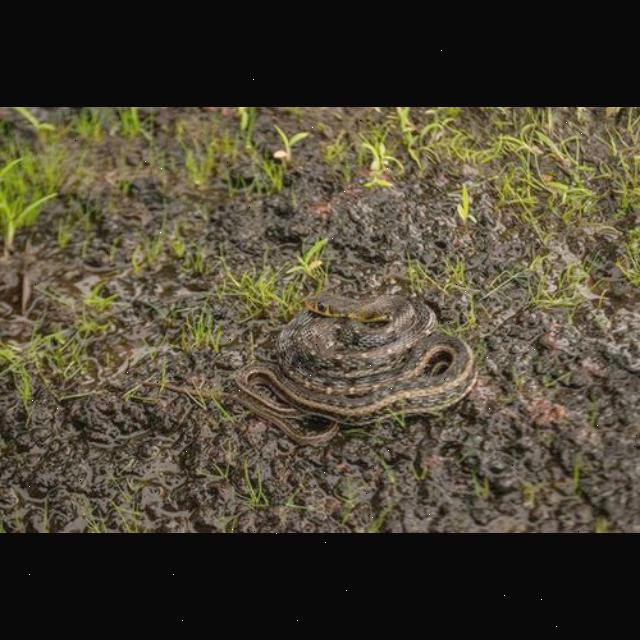snake: (221, 292, 483, 436)
